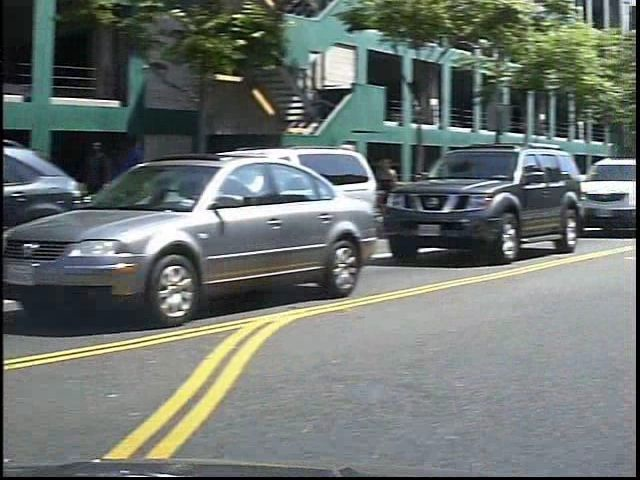person: (121, 129, 172, 253), (386, 155, 415, 230)
